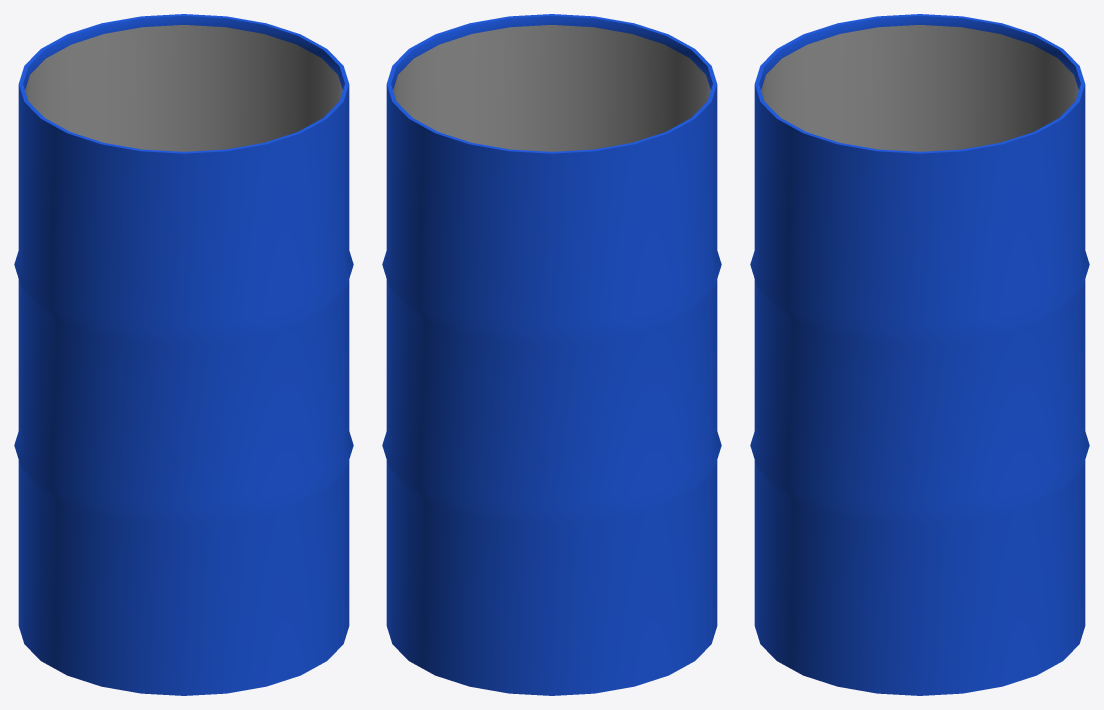
File: barrel_open_2mat.fbx
3 renders of one model, left to right at view 1: azimuth 30°, elevation 25°; view 2: azimuth 150°, elevation 25°; view 3: azimuth 270°, elevation 25°, orthographic.
Parts seen in each view (by area): view 1: barrel_open_2mat; view 2: barrel_open_2mat; view 3: barrel_open_2mat.
Part boxes in pixels (bbox=[...]): barrel_open_2mat: bbox=[14, 14, 353, 695]; barrel_open_2mat: bbox=[382, 14, 721, 695]; barrel_open_2mat: bbox=[750, 14, 1089, 695].
Size of the model in its own units: 51 by 89.88 by 51.
